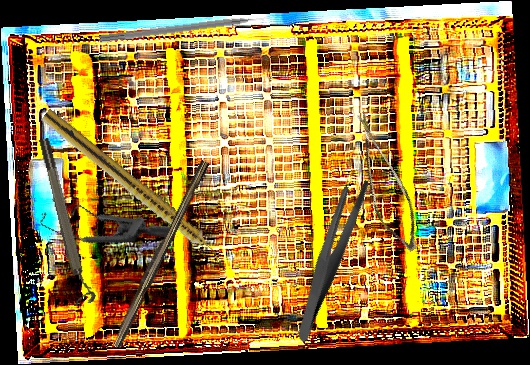Dressing Forceps: (257, 171, 403, 344)
Fixation Ring: (36, 135, 97, 307)
Handpiece: (38, 107, 227, 267)
Micro Scissor: (325, 109, 441, 257)
Pusher: (99, 13, 275, 45)
Scalpel Handle: (109, 157, 210, 350)
Speculum: (31, 155, 174, 281)
